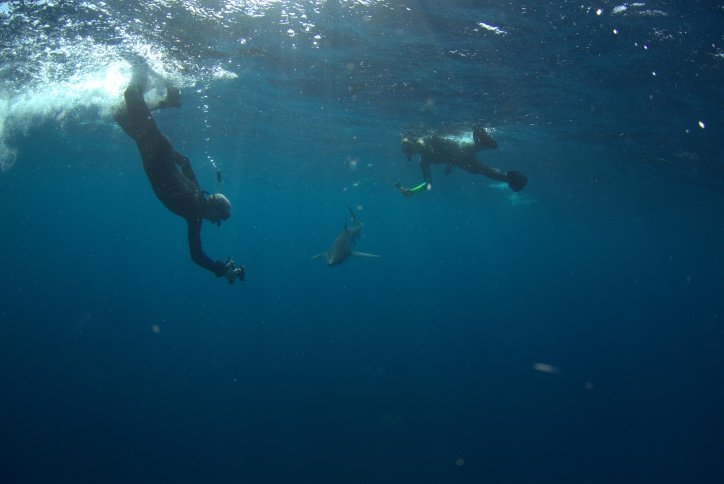Azul: (308, 198, 388, 276)
